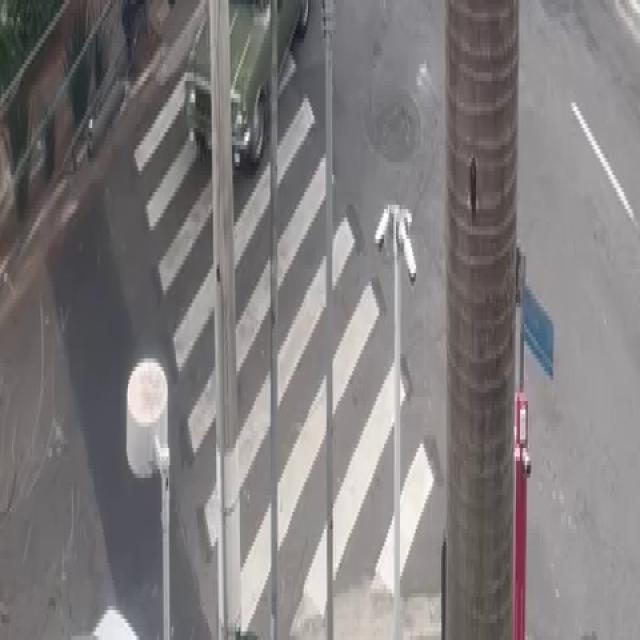car: (168, 0, 335, 200)
